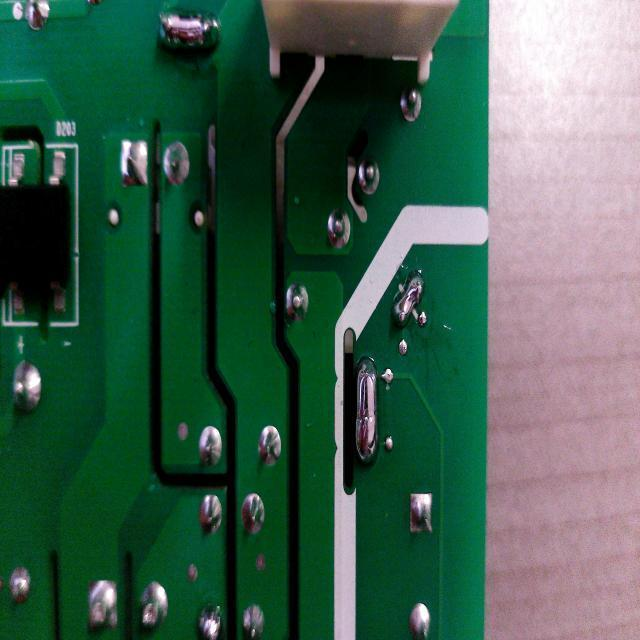Soldering shorted: (149, 5, 231, 63), (348, 346, 382, 478), (390, 262, 426, 329)
